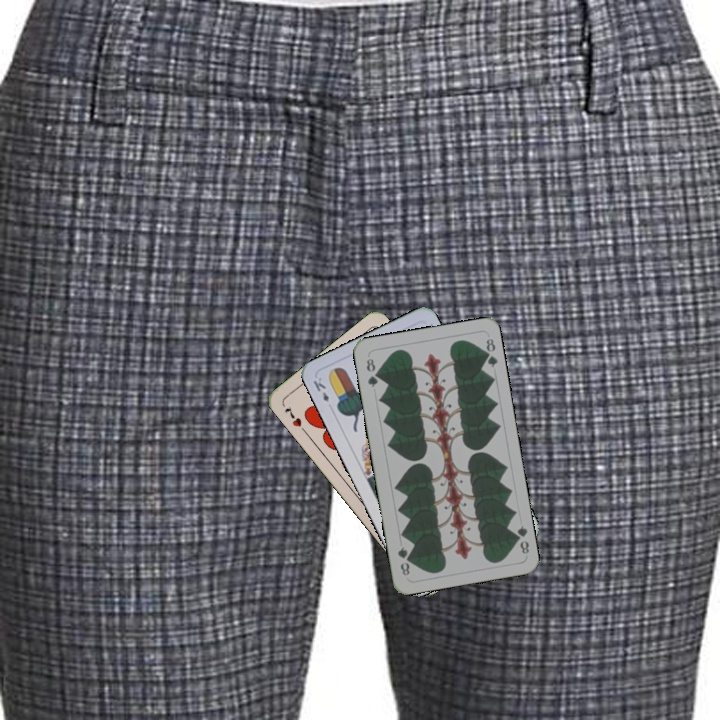EK: (309, 373, 332, 405)
G8: (510, 521, 532, 557), (362, 354, 381, 390)
H7: (280, 403, 309, 435)
